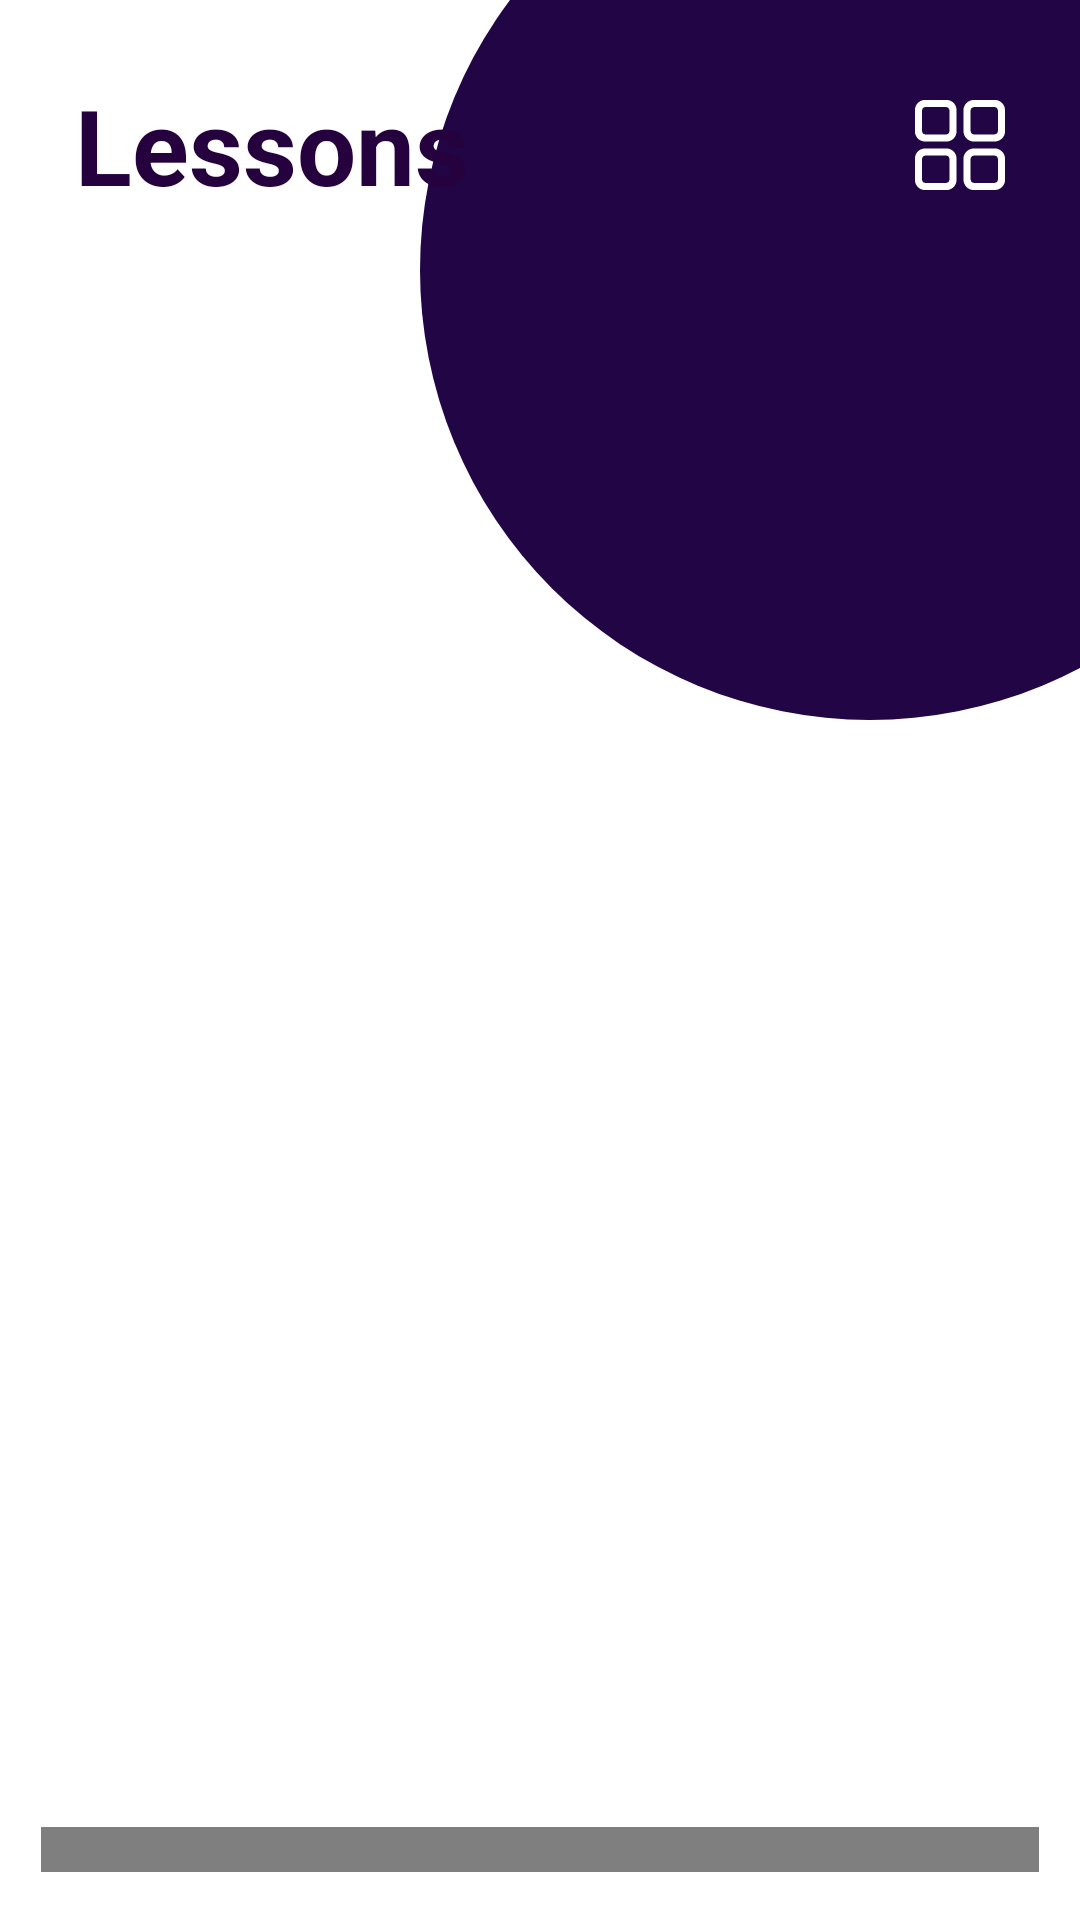

Screen size 1080w x 1920h. Icon name, then its center in pixels as point (x, y):
grid: point (960, 145)
